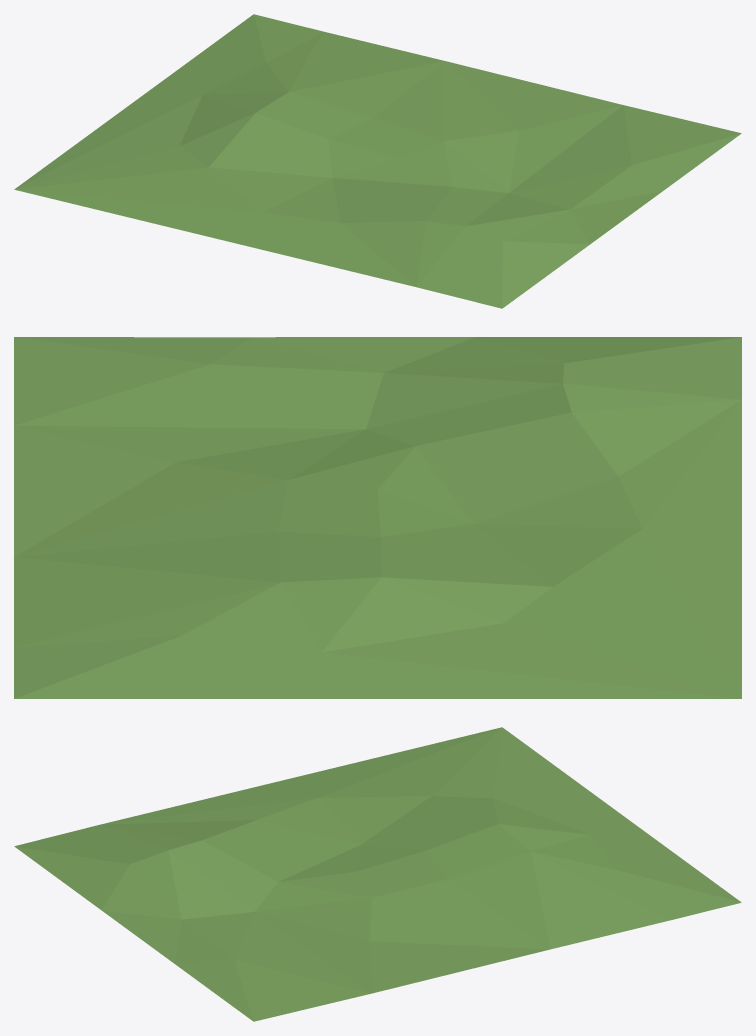
File: Bridge.A0.1.fbx
3 renders of one model, top to bottom at view 1: azimuth 30°, elevation 25°; view 2: azimuth 150°, elevation 25°; view 3: azimuth 270°, elevation 25°, orthographic. The views are drawn at different scales.
Visible parts, largest first — view 1: base.002; view 2: base.002; view 3: base.002.
Part boxes in pixels (bbox=[...]): base.002: bbox=[14, 14, 741, 308]; base.002: bbox=[14, 337, 741, 698]; base.002: bbox=[14, 727, 741, 1021].
Bounding box in the file's own units: 0.7538 × 0.7872 × 0.0281.
